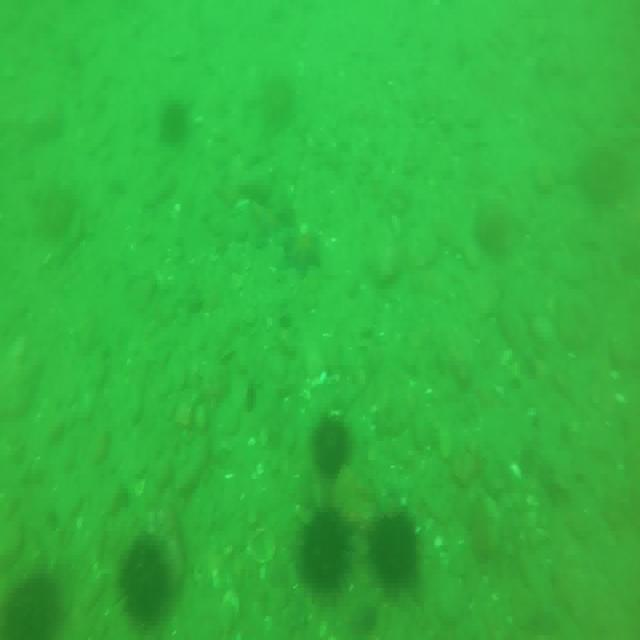echinus: (290, 504, 356, 595), (116, 530, 171, 630), (374, 509, 416, 592), (5, 572, 54, 640), (312, 418, 349, 485), (160, 98, 187, 146)
scallop: (244, 527, 276, 563)
starfish: (284, 230, 320, 276)
